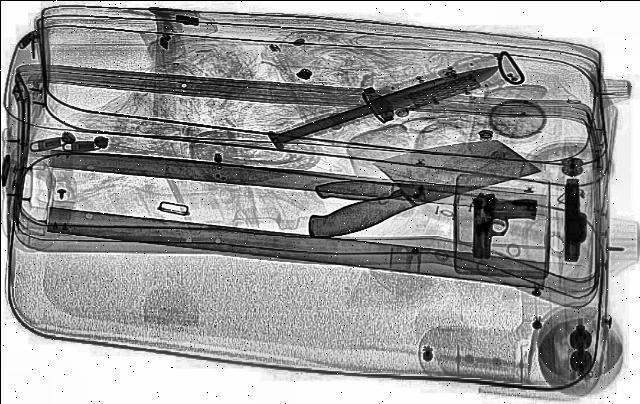Gun: (469, 195, 537, 260), (563, 179, 587, 261)
Knife: (270, 125, 548, 243), (273, 60, 512, 150), (315, 180, 537, 202)
